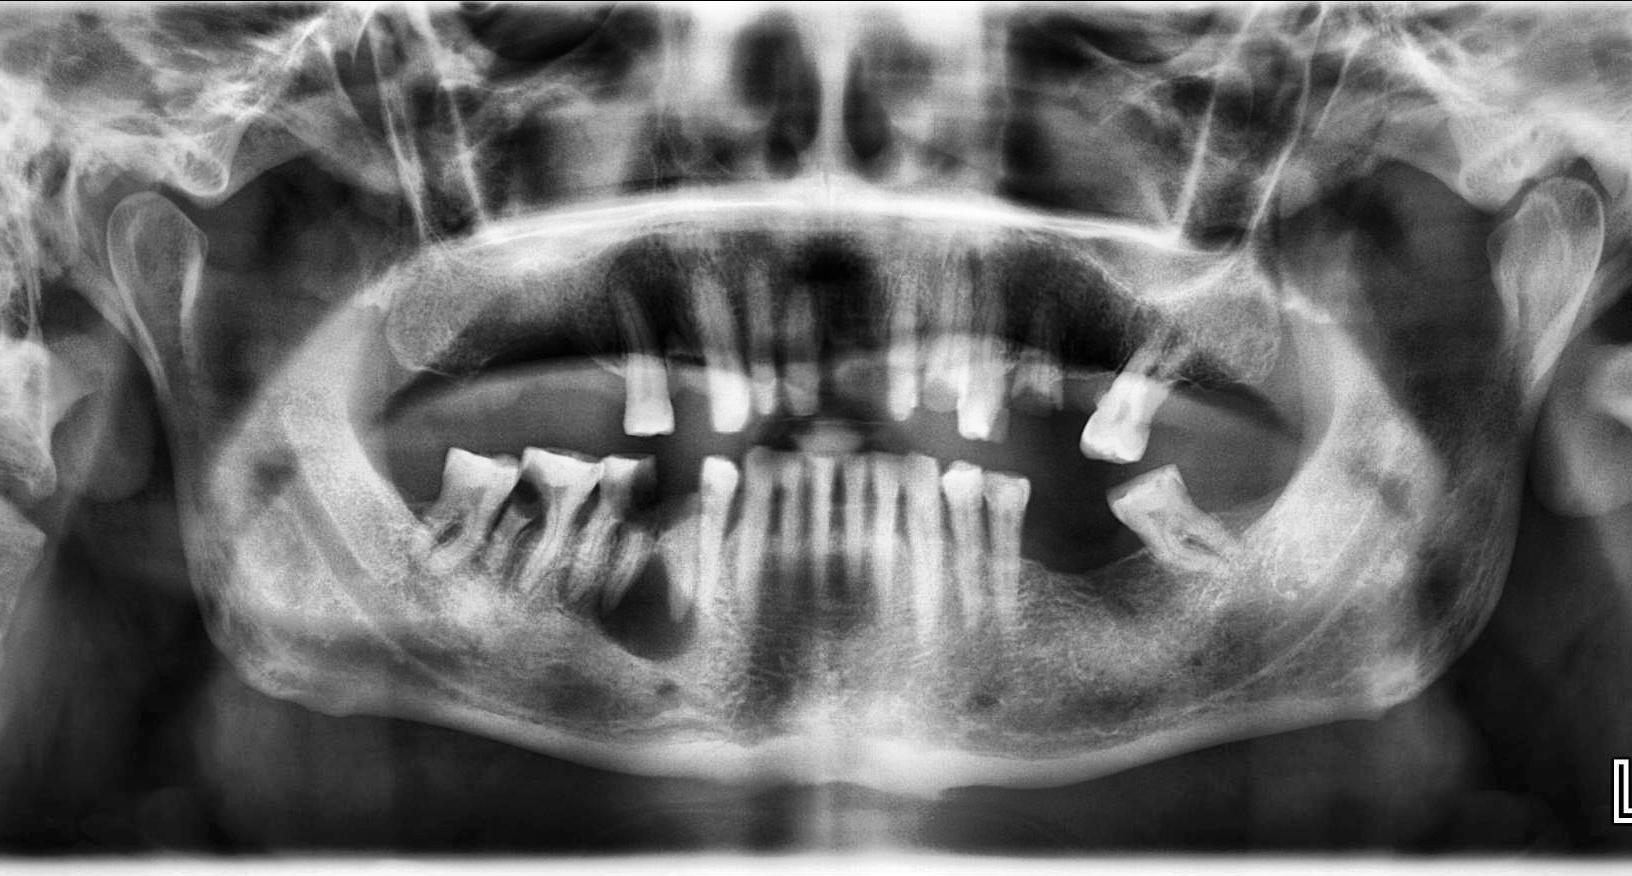radikuler: (553, 546, 700, 663)
